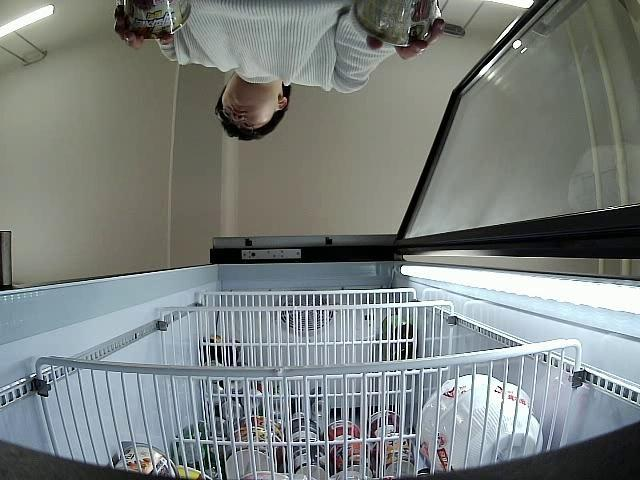04_chapagetti_S: (350, 0, 435, 46), (116, 0, 192, 37)
